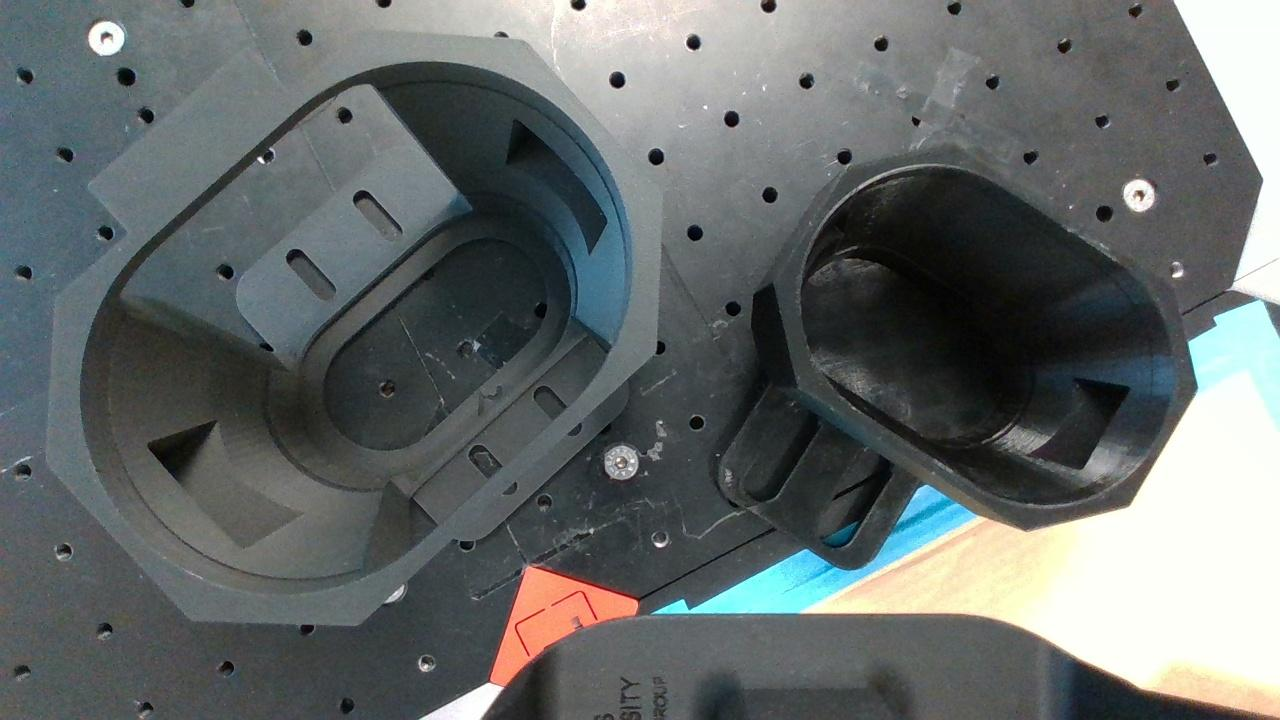big_interface: (45, 28, 662, 628)
small_interface: (773, 142, 1199, 533)
